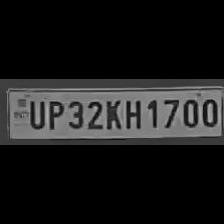0: (179, 96, 199, 128), (199, 95, 219, 127)
1: (142, 96, 160, 130)
2: (83, 97, 103, 130)
3: (64, 97, 84, 130)
7: (159, 95, 179, 129)
H: (122, 96, 142, 130)
K: (102, 96, 122, 130)
P: (44, 96, 64, 130)
U: (24, 96, 44, 130)
